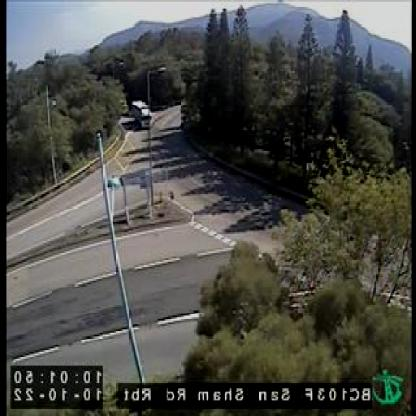Truck: (132, 98, 152, 127)
